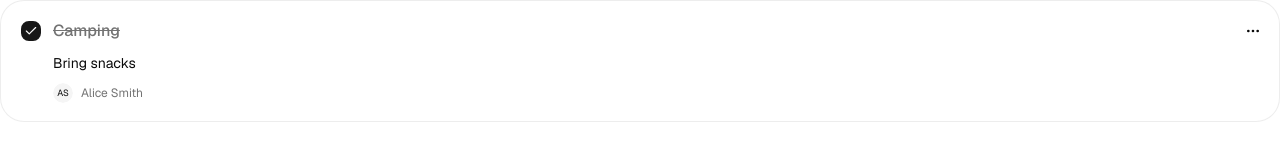
Test: BucketItemCard › has no menu on a done item for a member who did not suggest it, and only Edit and Delete for one who did
Click the button named "Actions for Camping".
click(1253, 31)  # box [1235,13,1271,49]
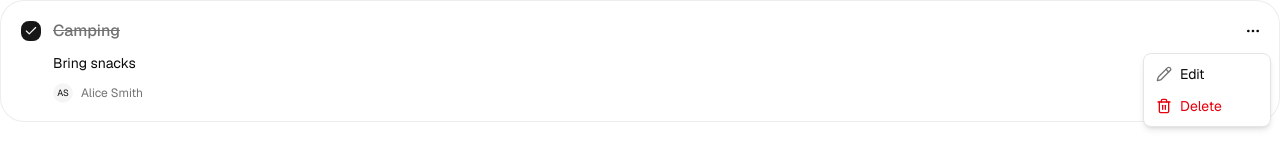
Expected: the menu item "Edit" is shown, [1156,65,1205,83]
